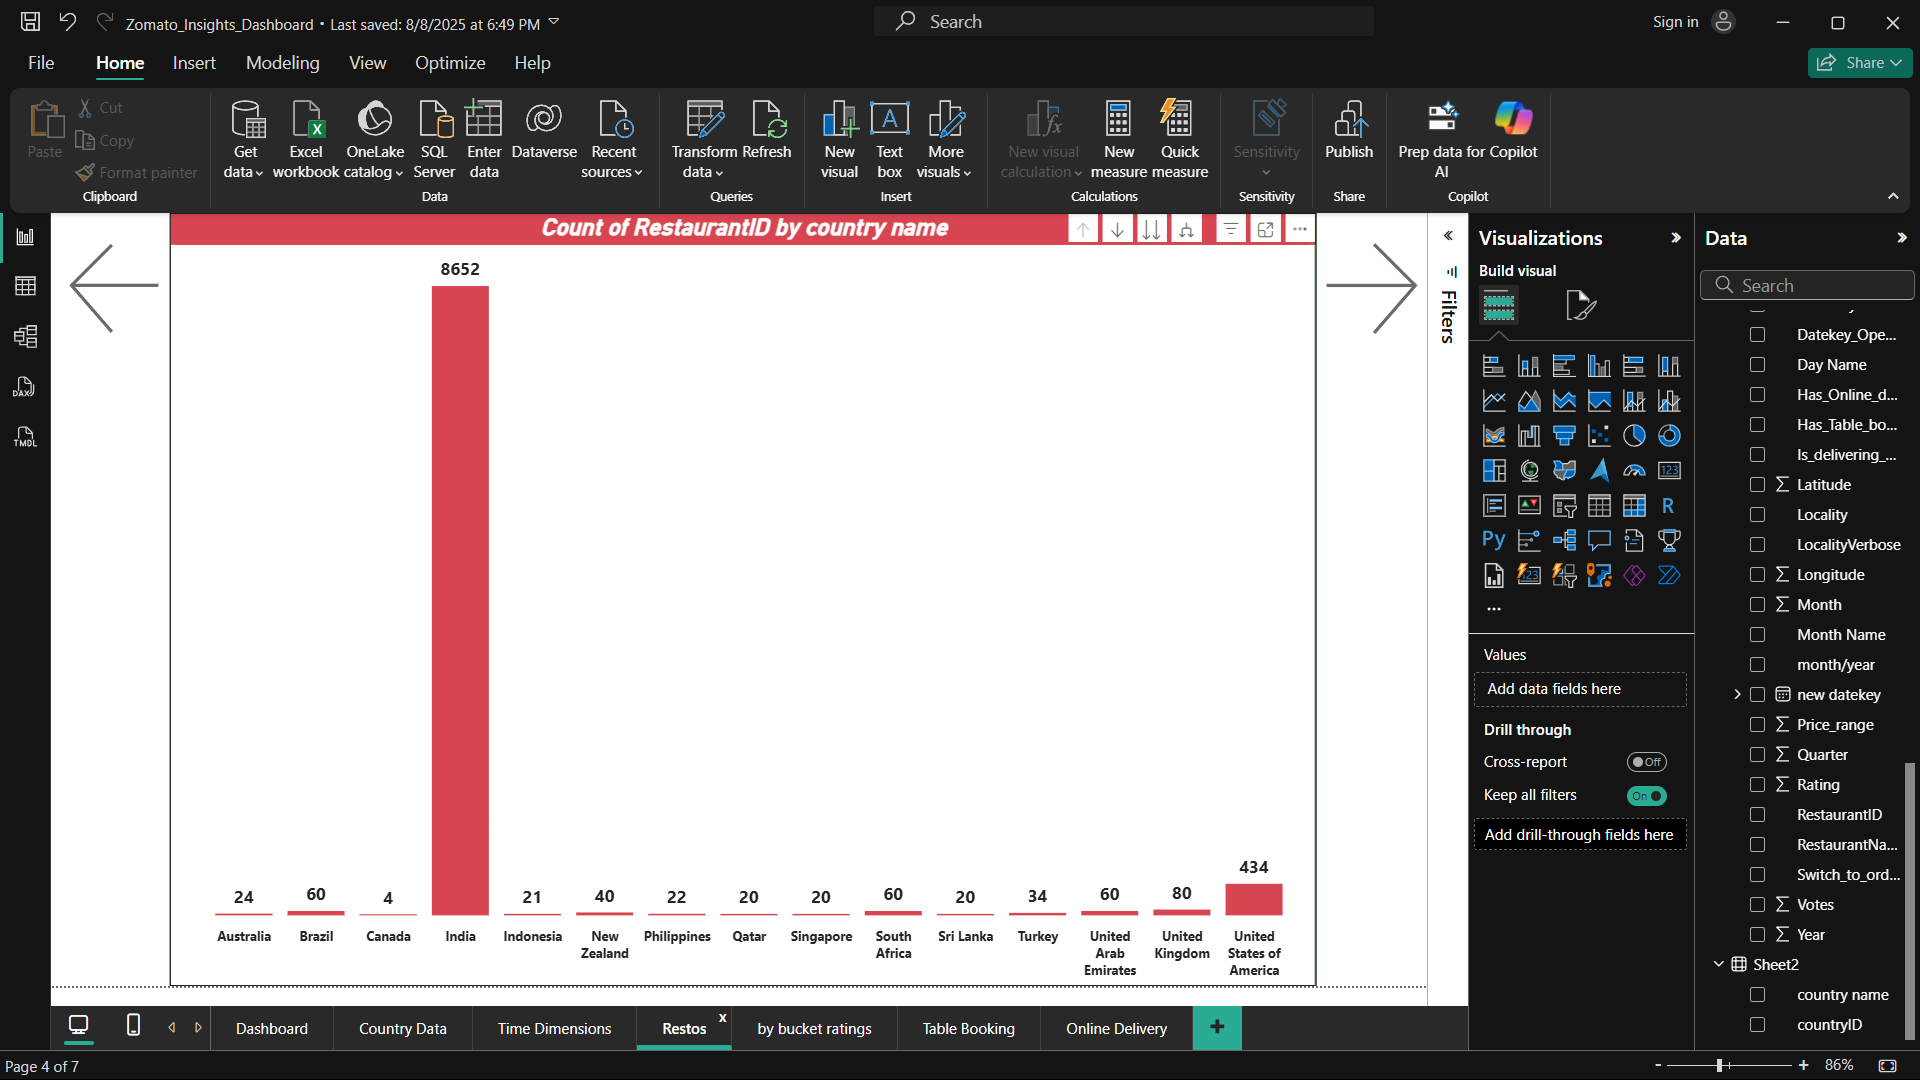

Layout of this report page (visuals, bound fields, positions):
{"tool":"powerbi","page":{"name":"Restos","canvas":[1280,720],"ordinal":3},"visuals":[{"type":"columnChart","fields":{"Category":["Sheet2.country name","cuisines copy.City"],"Y":["cuisines copy.RestaurantID"]},"box":[110,0,1067.1,719.8],"z":0},{"type":"actionButton","box":[1177.1,0,102.3,140.9],"z":1000},{"type":"actionButton","box":[9.6,0,100.3,140.9],"z":2000}]}

Visuals, with their boxes on the page's 1280x720 design canvas (x1, y1, x2, y2). These are canvas units, not pixel positions in the 1920x1080 screenshot, which may show the page scaled, cropped or inside an application window:
columnChart - Sheet2.country name x cuisines copy.City: box=[110, 0, 1177, 720]
actionButton: box=[1177, 0, 1279, 141]
actionButton: box=[10, 0, 110, 141]
